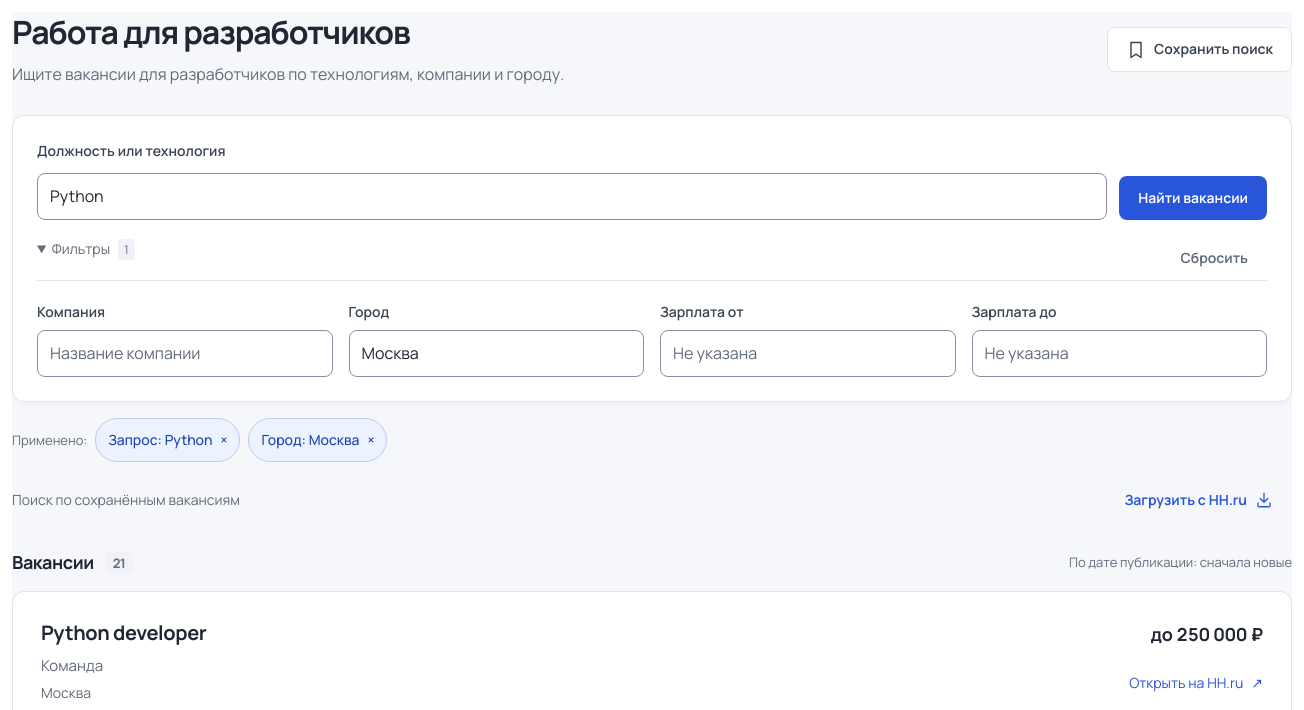
Vacancies API search › restores applied conditions and draft fields with browser back
This screenshot has width=1304, height=710.
Replace the text in the search field labelled "Должность или технология" with "Rust": (572,196) left=37, top=173, right=1107, bottom=220
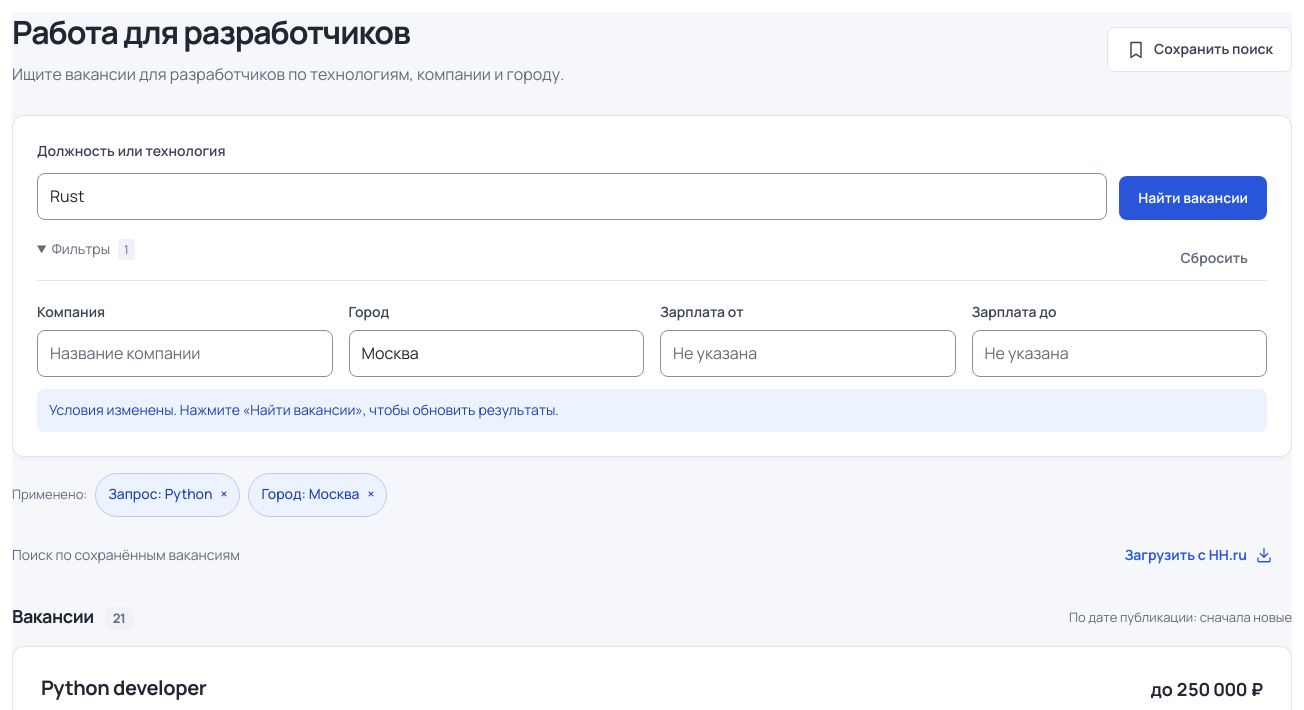
Submit the form with class "filters", box left=12, top=115, right=1292, bottom=457
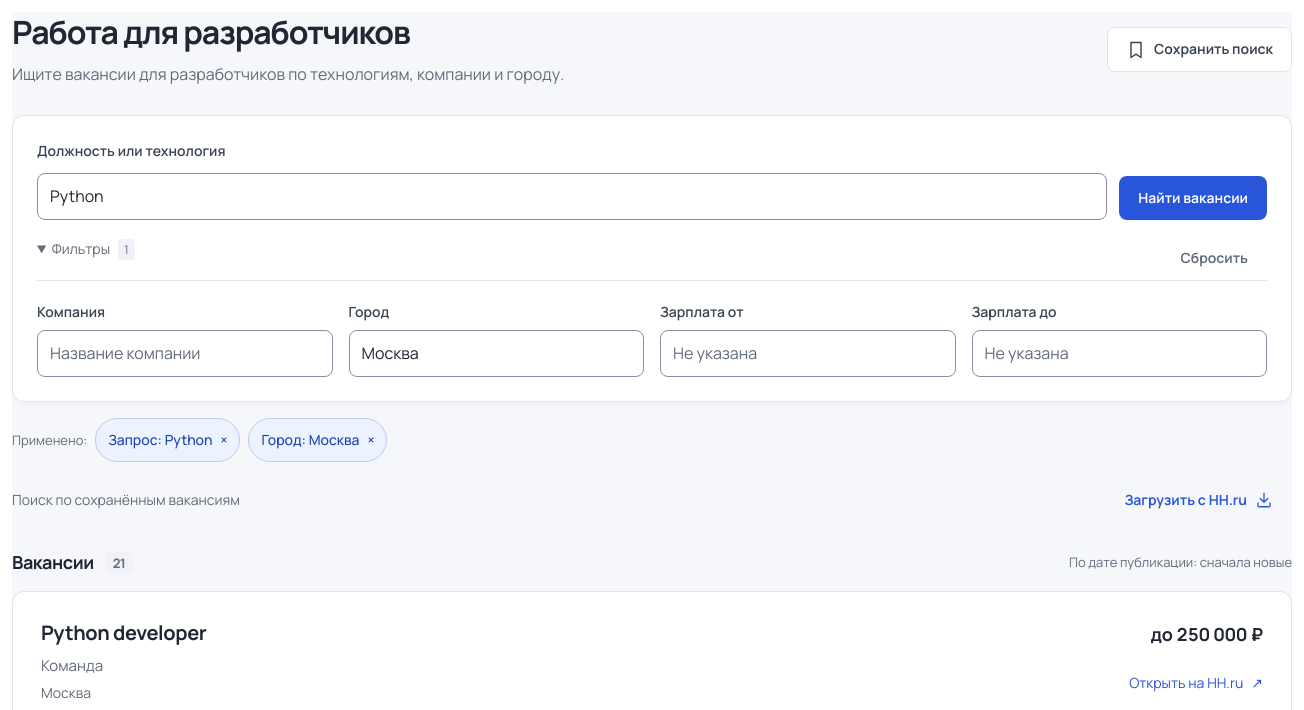
Expected: the element named "Применённые условия" shows "Python", left=95, top=418, right=240, bottom=462
Now the search field labelled "Должность или технология" holds "Python", box left=37, top=173, right=1107, bottom=220
